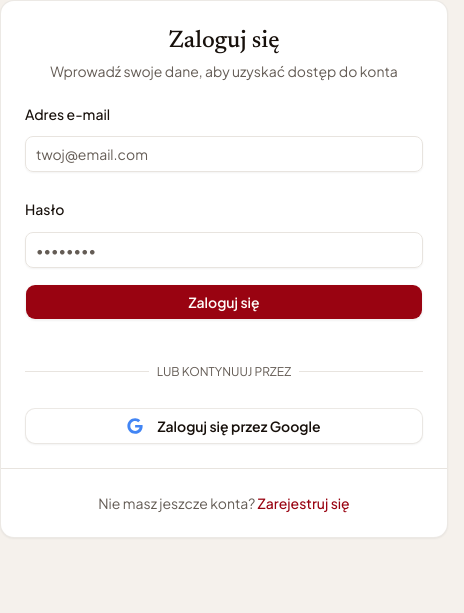
app/login/_components/SignIn › displays validation errors when submitting empty form
Click the button "Zaloguj się". click: (224, 302)
box: [25,284,423,320]
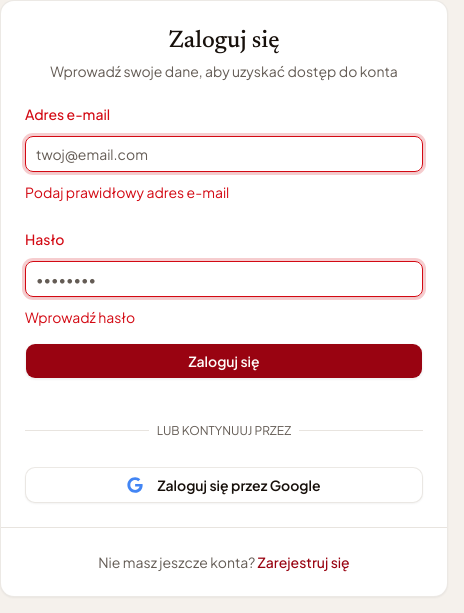
Result: the text "Podaj prawidłowy adres e-mail" is shown at [25,183,229,201]
Result: the text "Wprowadź hasło" is shown at [25,308,135,326]
